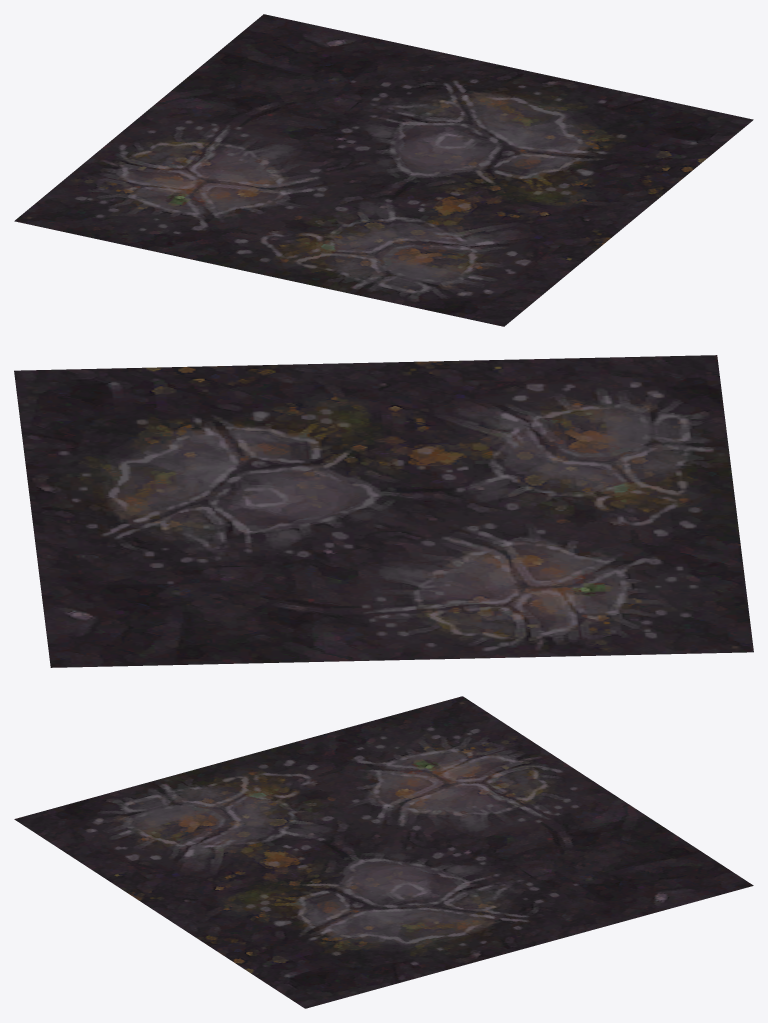
File: cave_floor_mushrooms_17.fbx
The picture shows the model from 3 angles, top to bottom: view 1: azimuth 30°, elevation 25°; view 2: azimuth 150°, elevation 25°; view 3: azimuth 270°, elevation 25°; orthographic projection. The views are drawn at different scales.
Visible parts, largest first — view 1: cave_tileset/Floormushrooms_03_mat; view 2: cave_tileset/Floormushrooms_03_mat; view 3: cave_tileset/Floormushrooms_03_mat.
Boxes of the visible parts, x1,y1,x2,y2 form: cave_tileset/Floormushrooms_03_mat: (14,14,753,326); cave_tileset/Floormushrooms_03_mat: (14,355,753,667); cave_tileset/Floormushrooms_03_mat: (14,696,753,1008).
Size of the model in its own units: 3.87 by 0 by 3.87.
